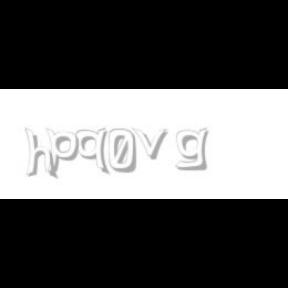0: (109, 128, 140, 174)
g: (176, 128, 213, 171)
h: (24, 128, 60, 180)
p: (46, 128, 82, 174)
q: (75, 128, 111, 176)
v: (132, 128, 172, 160)
